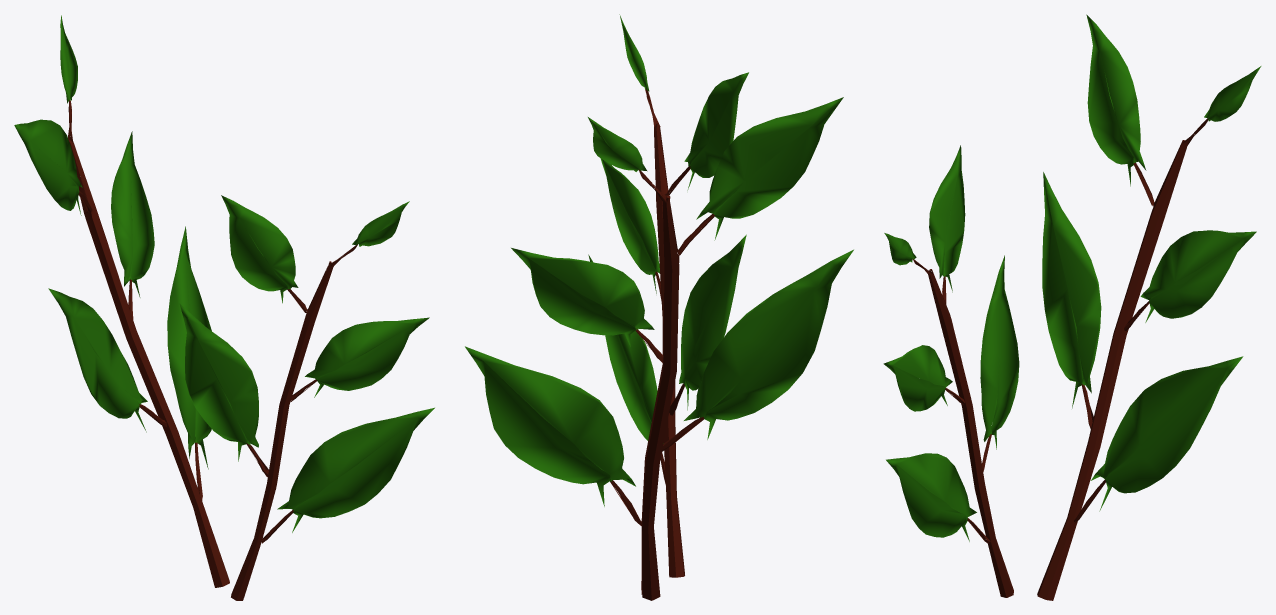
The model's file is SM_JutePlant_LOD1.fbx.
3 views of the same model, side by side, from view 1: azimuth 30°, elevation 25°; view 2: azimuth 150°, elevation 25°; view 3: azimuth 270°, elevation 25° (orthographic). The views are drawn at different scales.
Parts seen in each view (by area): view 1: JuteLeaf.001; view 2: JuteLeaf.001; view 3: JuteLeaf.001.
Boxes of the visible parts, x1,y1,x2,y2 form: JuteLeaf.001: [14, 15, 434, 600]; JuteLeaf.001: [465, 14, 853, 600]; JuteLeaf.001: [883, 14, 1261, 600].
Size of the model in its own units: 58.35 by 88.01 by 59.33.
